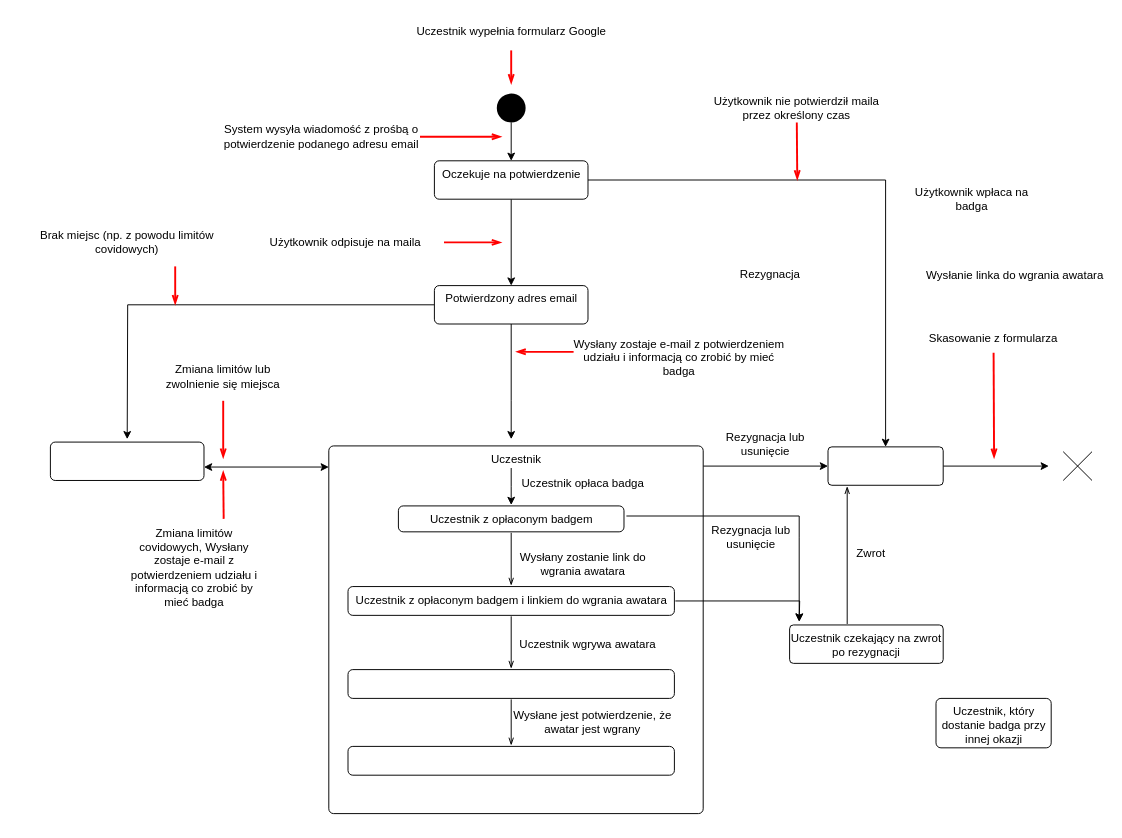
The diagram is 1122 pixels wide and 838 high, and some of its shapes have lost their labels. Each missing label, with the box of its shape:
Lista rezerwowa: (49, 441, 204, 480)
Uczestnik z opłaconym badgem i wgranym awatarem: (347, 669, 674, 698)
Uczestnik z potwierdzeniem wgrania awatara: (347, 745, 674, 775)
Usunięty: (827, 446, 943, 485)
